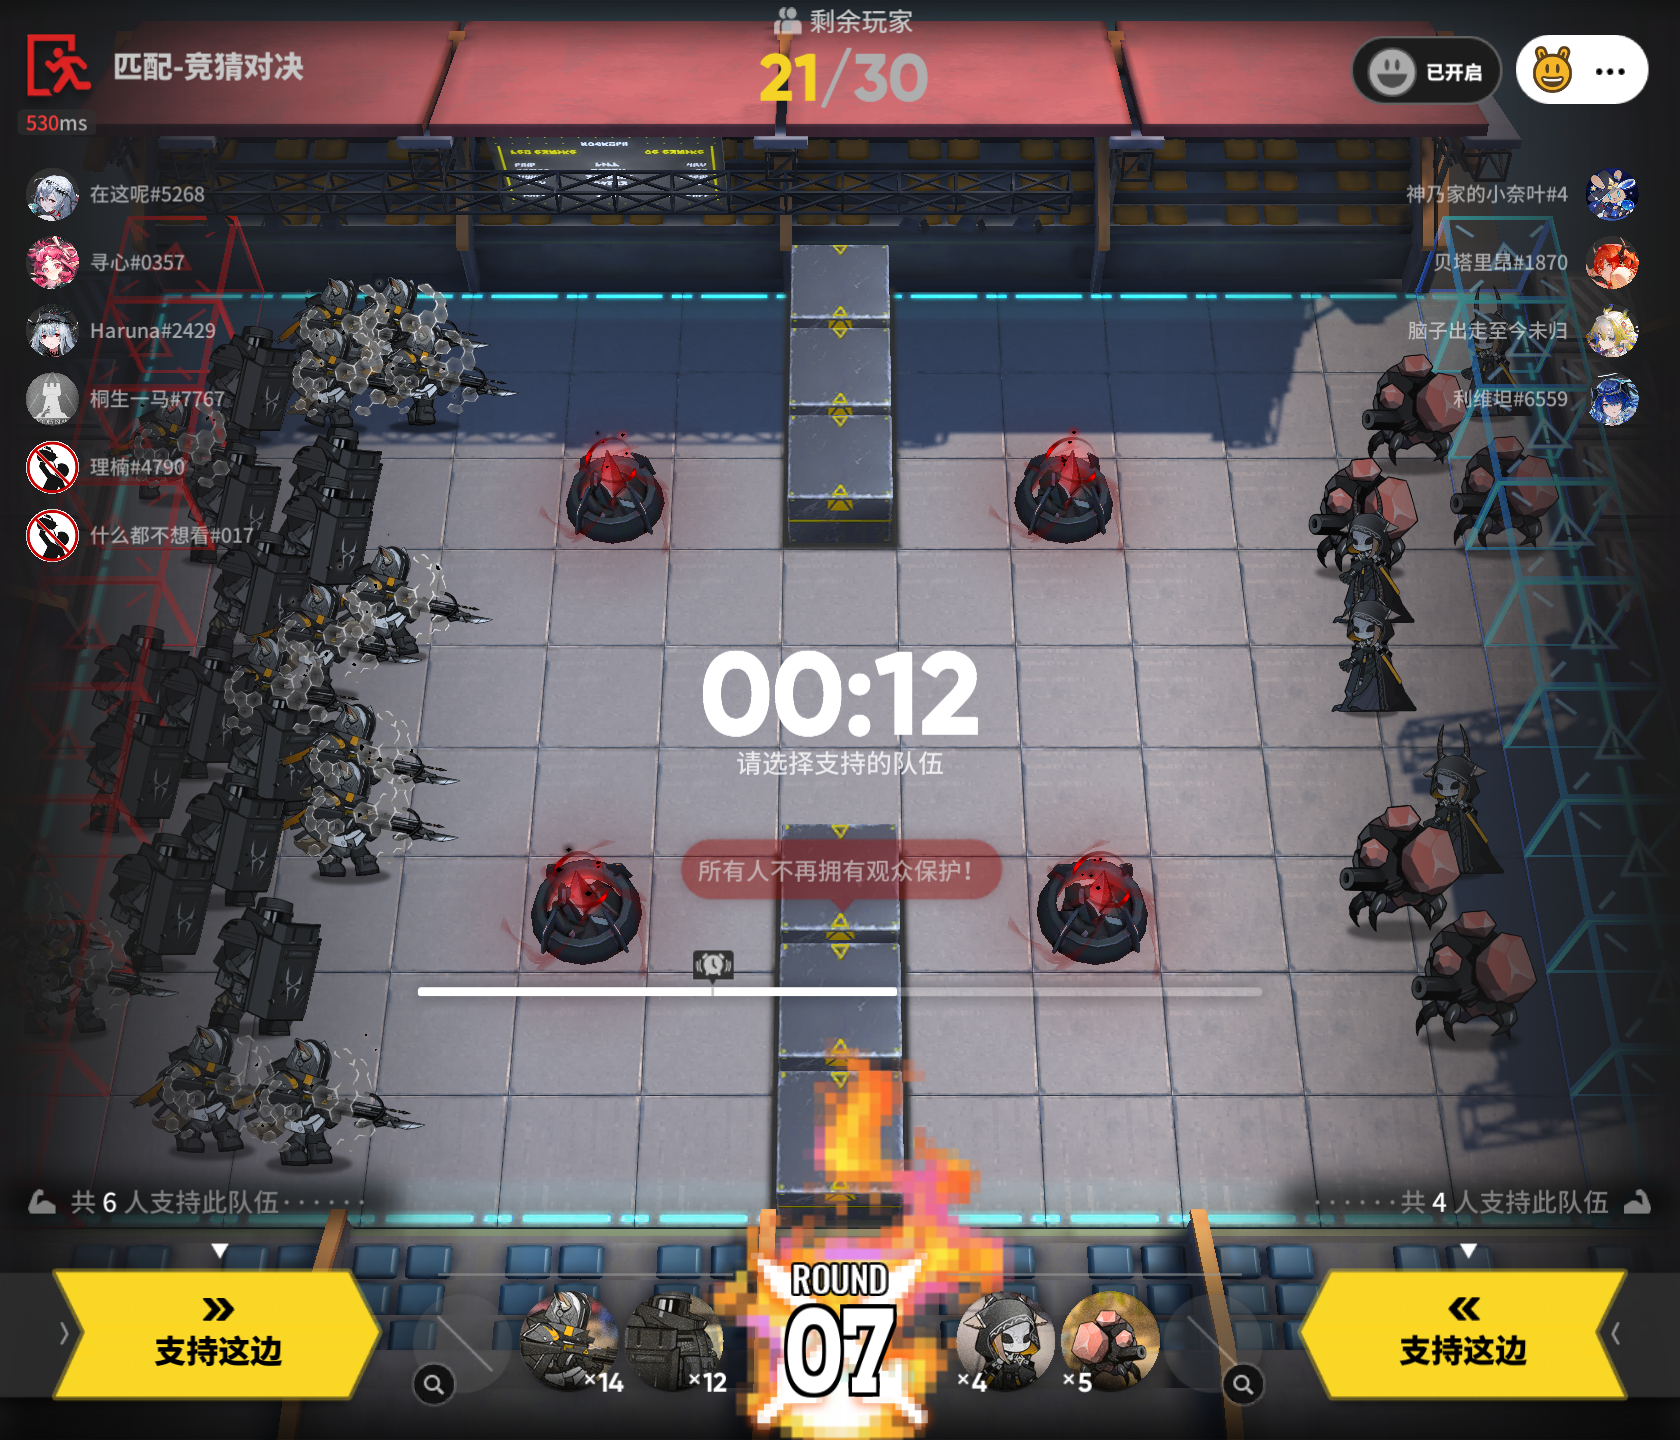保鲜膜骑士: (341, 533, 509, 663), (299, 756, 459, 886), (16, 909, 171, 1041), (384, 326, 529, 446), (266, 571, 429, 676), (114, 393, 270, 499), (283, 311, 423, 426), (230, 634, 360, 746), (311, 693, 466, 784), (359, 266, 500, 361), (519, 1281, 626, 1399), (263, 270, 399, 356)
大喷蛛: (1419, 906, 1537, 1051), (1341, 797, 1461, 934), (1304, 453, 1421, 581), (1361, 341, 1476, 463), (1446, 441, 1561, 549), (1059, 1279, 1166, 1391)
扩音术师: (1331, 579, 1423, 719), (1423, 737, 1509, 876), (953, 1289, 1063, 1393), (1334, 509, 1421, 623), (1461, 304, 1541, 411)
源石祭坛: (530, 847, 641, 966), (1036, 850, 1149, 966), (1013, 429, 1113, 543), (564, 431, 666, 543)
迟钝的持盾者: (247, 1030, 423, 1183), (131, 1019, 267, 1160), (209, 887, 333, 1040), (97, 826, 219, 967), (86, 694, 190, 833), (151, 634, 256, 770), (184, 764, 286, 899), (623, 1284, 741, 1391), (286, 419, 391, 534), (279, 474, 371, 594), (203, 329, 300, 443), (241, 693, 329, 807), (191, 440, 283, 549), (221, 529, 300, 641), (94, 616, 166, 714)
阻挡物: (773, 1066, 907, 1221), (784, 409, 904, 553), (779, 931, 909, 1064), (779, 819, 904, 939), (784, 317, 901, 421), (784, 234, 901, 326)
